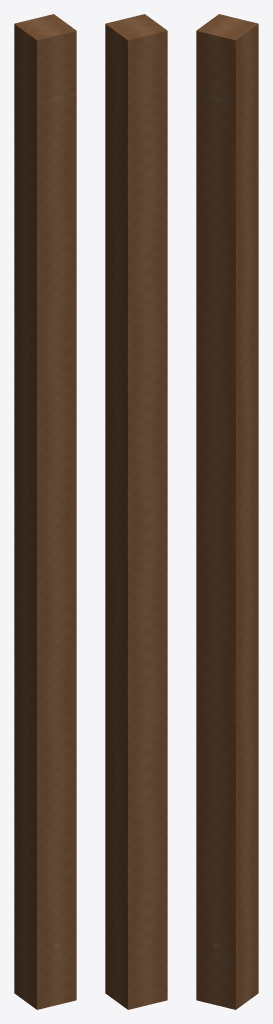
File: MRP_FramePost_Middle_2p8m.fbx
3 views of the same model, side by side, from view 1: azimuth 30°, elevation 25°; view 2: azimuth 210°, elevation 25°; view 3: azimuth 330°, elevation 25° (orthographic).
Parts seen in each view (by area): view 1: Body; view 2: Body; view 3: Body.
Part boxes in pixels (x1,y1,x2,y2): Body: [14, 14, 76, 1009]; Body: [105, 14, 167, 1009]; Body: [196, 14, 258, 1009].
Size of the model in its own units: 0.12 by 2.8 by 0.12.
